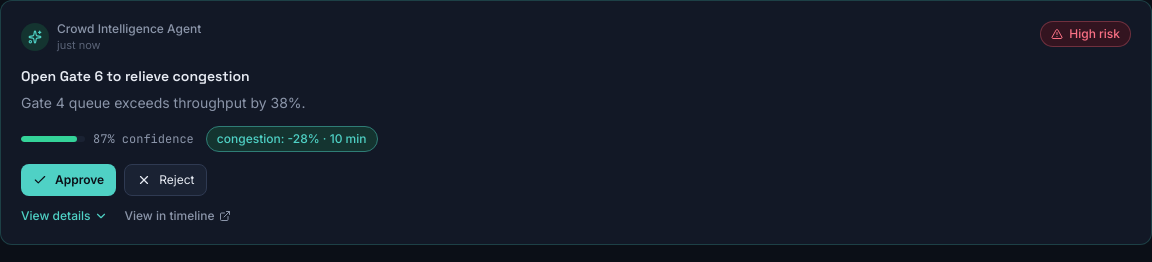
Test case: AIInsightCard › approving a recommendation records it in recommendationHistoryStore and swaps in an Approved badge
Click the button "Approve" at x=69, y=180, box [21, 164, 116, 196]
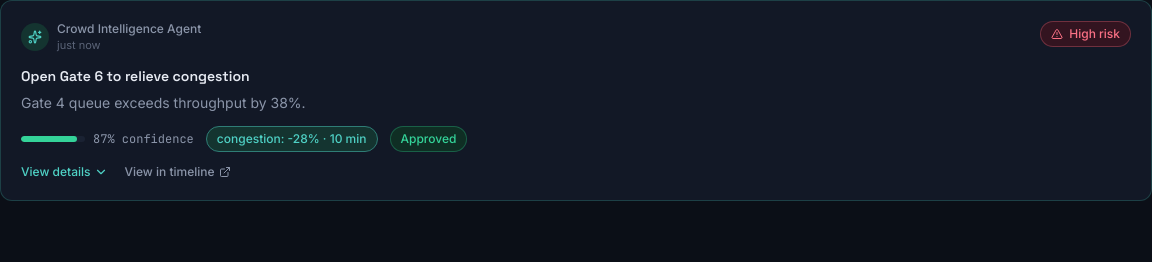
Now the text "Approved" is shown, box [390, 126, 467, 152]
